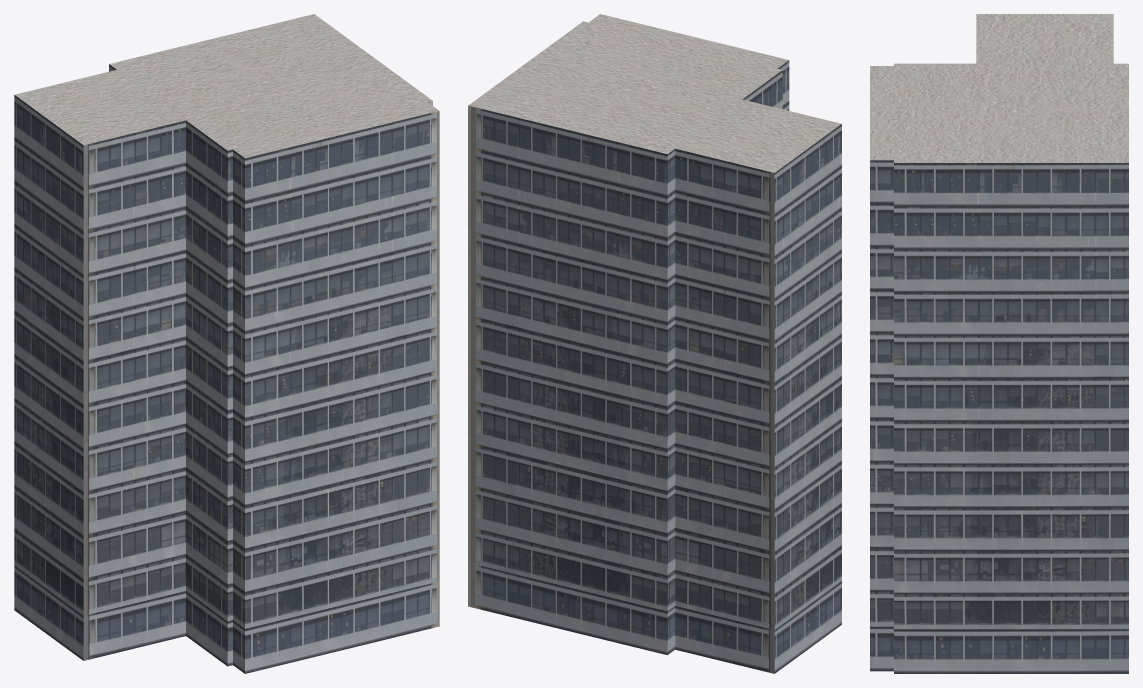
Rendered from building_014.fbx.
3 renders of one model, left to right at view 1: azimuth 30°, elevation 25°; view 2: azimuth 150°, elevation 25°; view 3: azimuth 270°, elevation 25°, orthographic. The views are drawn at different scales.
Parts seen in each view (by area): view 1: building_014; view 2: building_014; view 3: building_014.
Part boxes in pixels (<box>): building_014: <box>14,14,439,673</box>; building_014: <box>468,14,841,673</box>; building_014: <box>870,14,1128,673</box>.
Bounding box in the file's own units: 1499 × 2400 × 1102.
